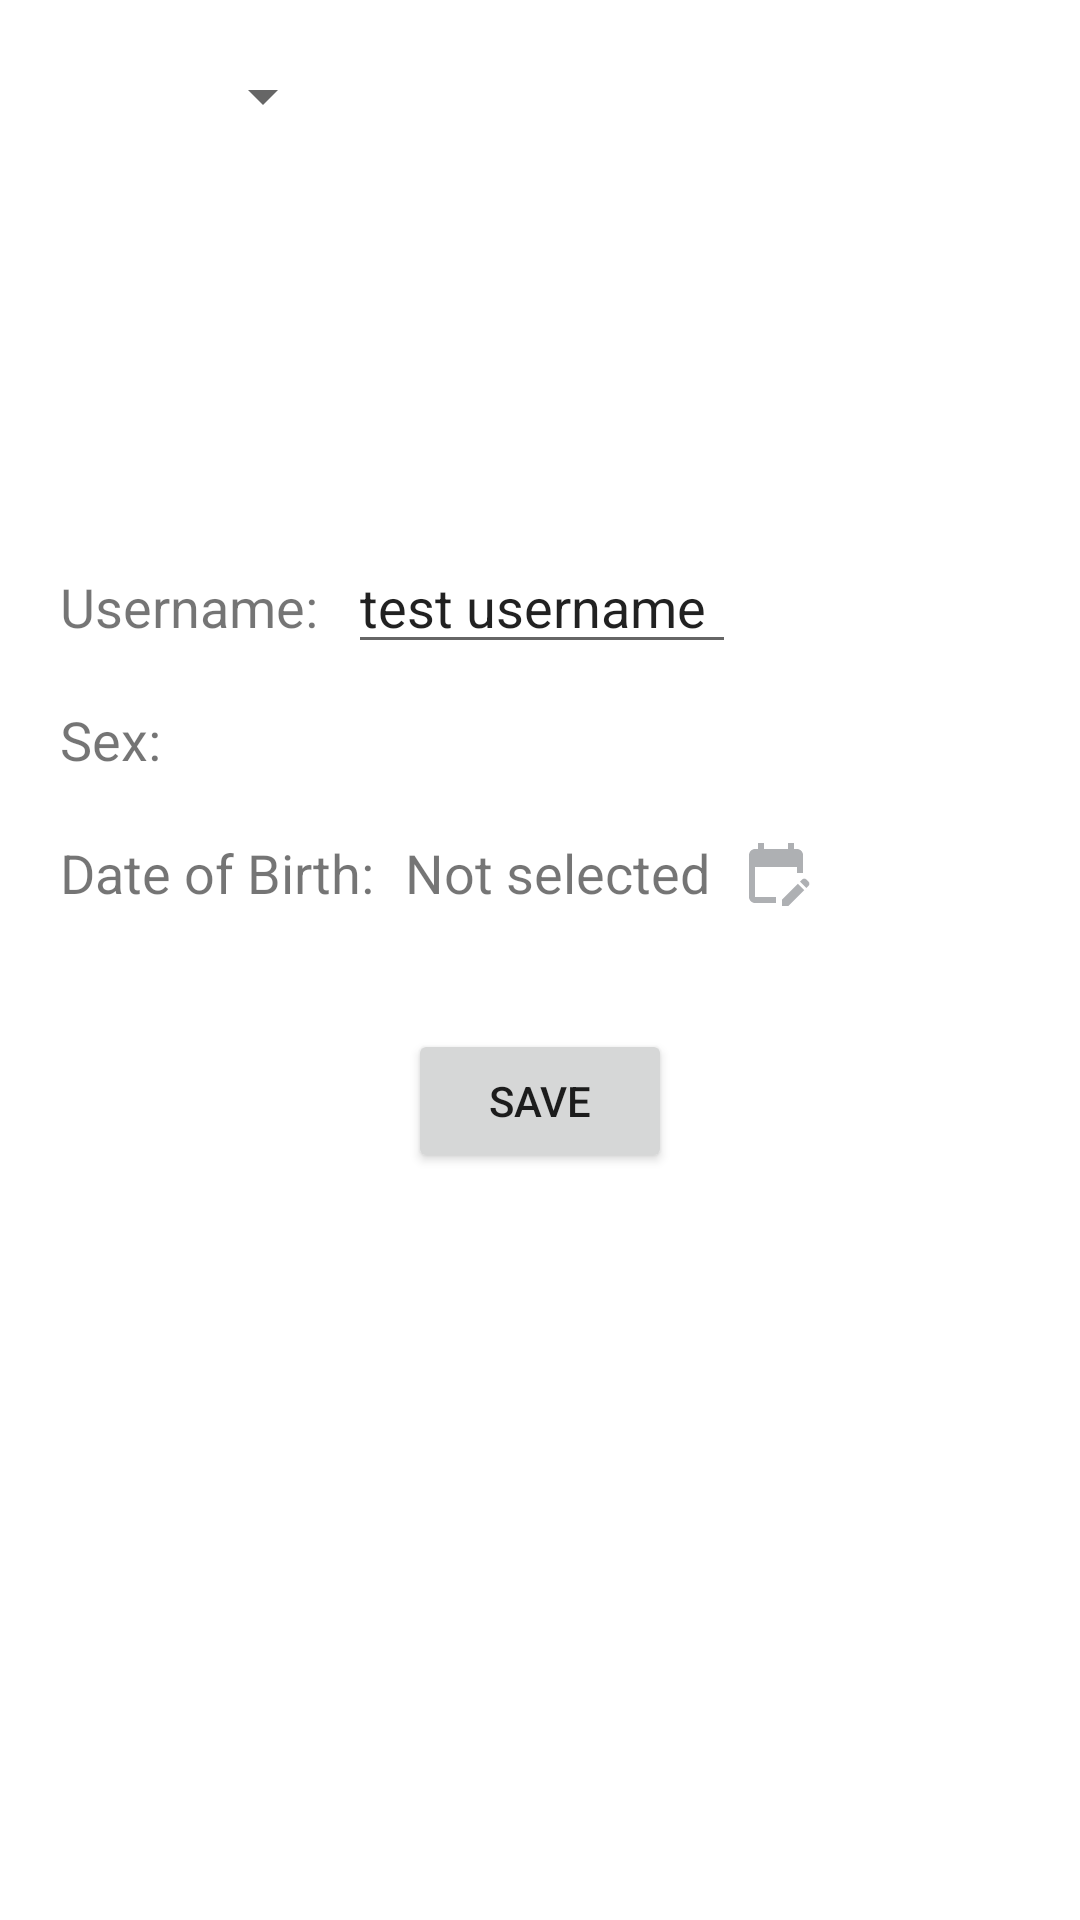

Icon bounding boxes for this 1080px x 1920px phone screenshot, format (x1, y1, x2, y2):
edit calendar: (749, 843, 809, 906)
